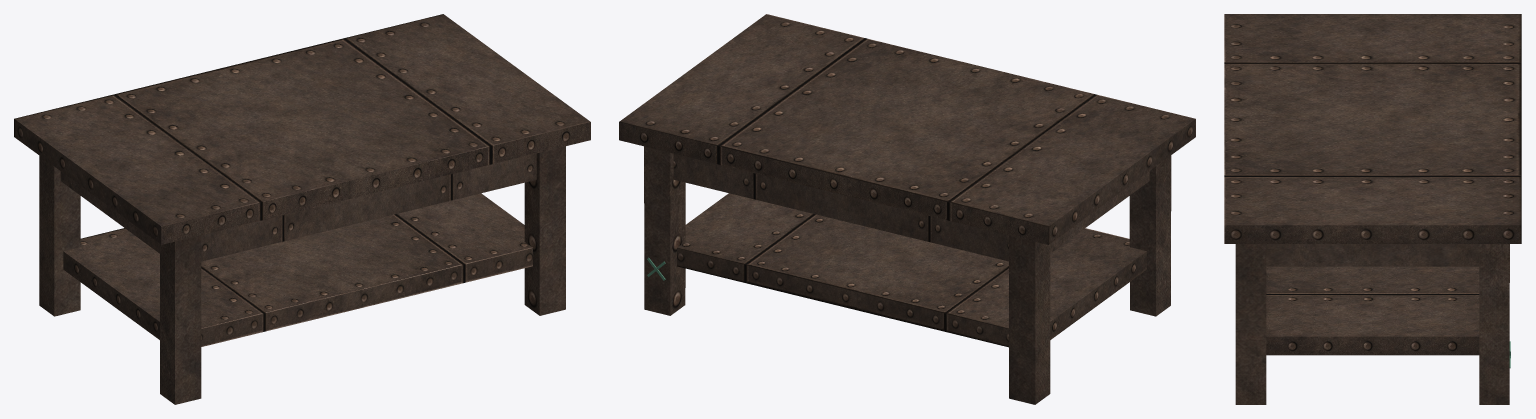
Rendered from Livingroom_Table_Metal.fbx.
3 renders of one model, left to right at view 1: azimuth 30°, elevation 25°; view 2: azimuth 150°, elevation 25°; view 3: azimuth 270°, elevation 25°, orthographic.
Parts seen in each view (by area): view 1: Livingroom_Table_Metal; view 2: Livingroom_Table_Metal; view 3: Livingroom_Table_Metal.
Part boxes in pixels (left/top/right/bottom): Livingroom_Table_Metal: left=14, top=14, right=590, bottom=404; Livingroom_Table_Metal: left=619, top=14, right=1195, bottom=404; Livingroom_Table_Metal: left=1224, top=14, right=1521, bottom=404.
Size of the model in its own units: 152 by 63.81 by 90.29.
